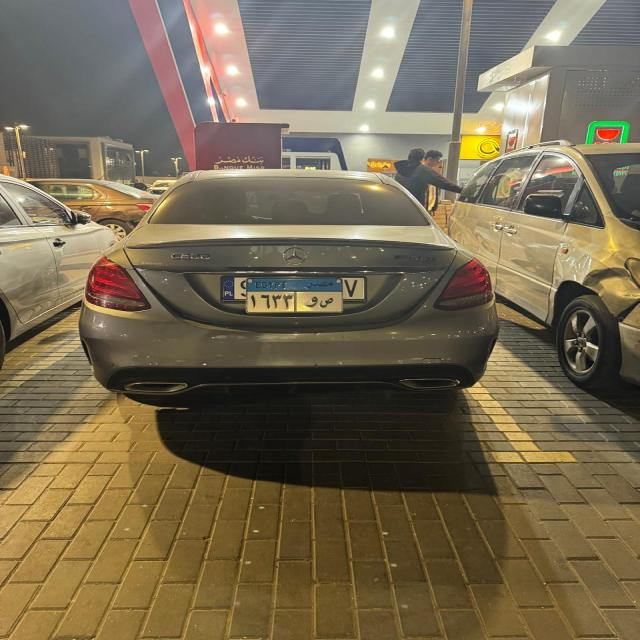car-plate: (248, 279, 340, 310)
